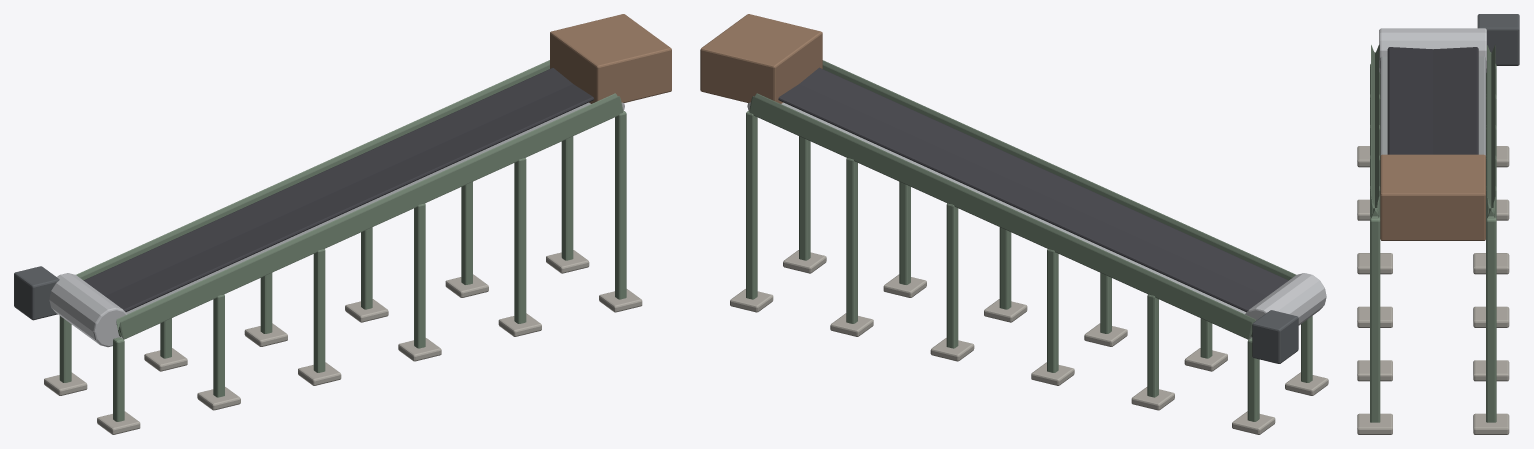
Rendered from conveyor_6.fbx.
The picture shows the model from 3 angles, left to right: view 1: azimuth 30°, elevation 25°; view 2: azimuth 150°, elevation 25°; view 3: azimuth 270°, elevation 25°; orthographic projection. The views are drawn at different scales.
Parts seen in each view (by area): view 1: conveyor_6; view 2: conveyor_6; view 3: conveyor_6.
Part boxes in pixels (left/top/right/bottom): conveyor_6: left=14, top=14, right=671, bottom=434; conveyor_6: left=700, top=14, right=1328, bottom=434; conveyor_6: left=1357, top=14, right=1519, bottom=434.
Bounding box in the file's own units: 7.12 × 2.75 × 1.54.
